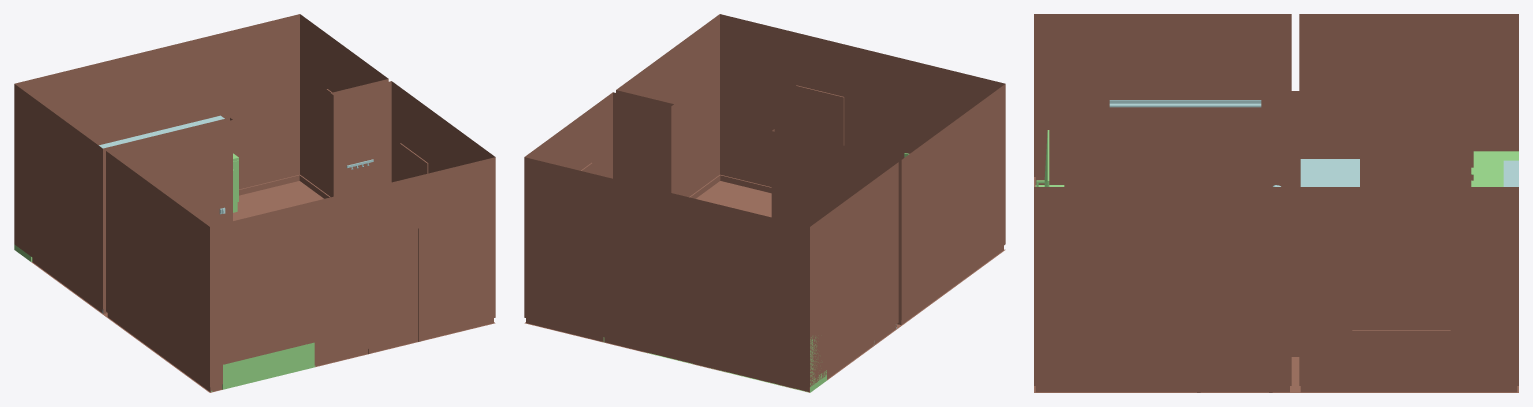
File: NIBE-Huone.fbx
The picture shows the model from 3 angles, left to right: view 1: azimuth 30°, elevation 25°; view 2: azimuth 150°, elevation 25°; view 3: azimuth 270°, elevation 25°; orthographic projection. The views are drawn at different scales.
Visible parts, largest first — view 1: Building-Boundaries, TV-Set, Shelf-1, Kitchen Counter; view 2: Building-Boundaries, Kitchen Counter; view 3: Building-Boundaries, Table, Kitchen Counter, Pic-Holder, Shelf-1.
Part boxes in pixels (x1,y1,x2,y2): Building-Boundaries: (14,14,495,392); TV-Set: (211,342,315,391); Shelf-1: (99,115,224,148); Kitchen Counter: (14,153,238,261); Building-Boundaries: (524,14,1005,392); Kitchen Counter: (603,336,826,392); Building-Boundaries: (1034,14,1518,392); Table: (1300,159,1359,186); Kitchen Counter: (1471,151,1518,186); Pic-Holder: (1109,100,1261,107); Shelf-1: (1503,160,1518,186).
Bounding box in the file's own units: 540 × 300 × 640.
